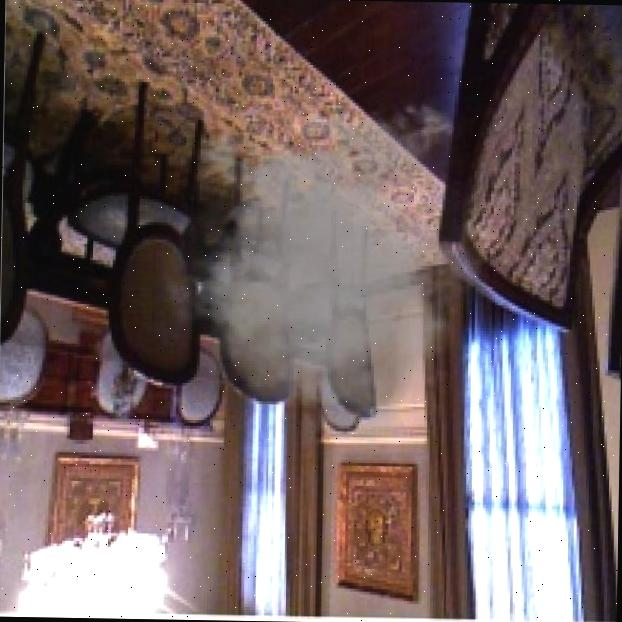smoke: (144, 88, 507, 451)
